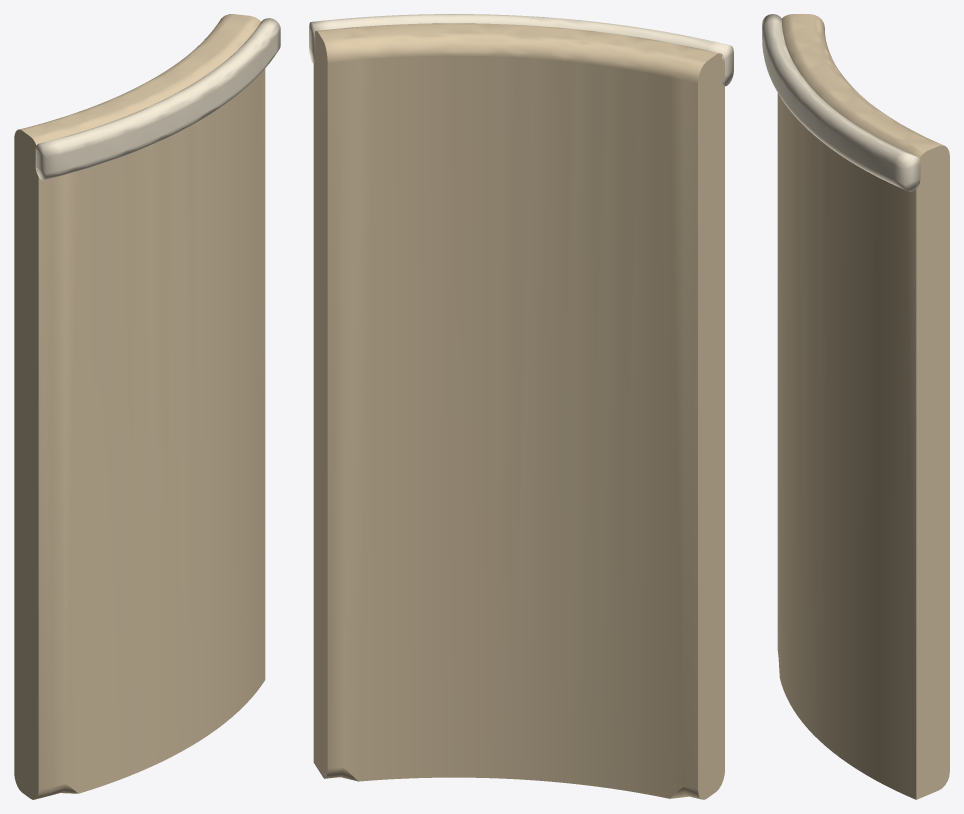
File: ArcWall_R2_A45.glb
3 renders of one model, left to right at view 1: azimuth 30°, elevation 25°; view 2: azimuth 150°, elevation 25°; view 3: azimuth 270°, elevation 25°, orthographic. The views are drawn at different scales.
Visible parts, largest first — view 1: PBK_substrate.001, PBK_floor_band.001; view 2: PBK_substrate.001, PBK_floor_band.001; view 3: PBK_substrate.001, PBK_floor_band.001.
Part boxes in pixels (bbox=[...]): PBK_substrate.001: bbox=[14, 14, 265, 799]; PBK_floor_band.001: bbox=[35, 18, 280, 180]; PBK_substrate.001: bbox=[313, 23, 724, 799]; PBK_floor_band.001: bbox=[309, 14, 733, 86]; PBK_substrate.001: bbox=[777, 14, 949, 799]; PBK_floor_band.001: bbox=[762, 14, 920, 191].
Size of the model in its own units: 1.46 by 3 by 0.7922.
